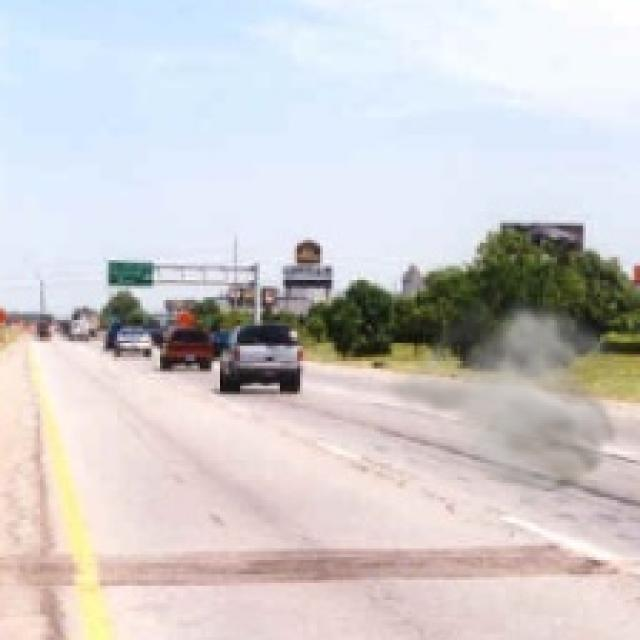Smoke: (377, 294, 637, 514)
